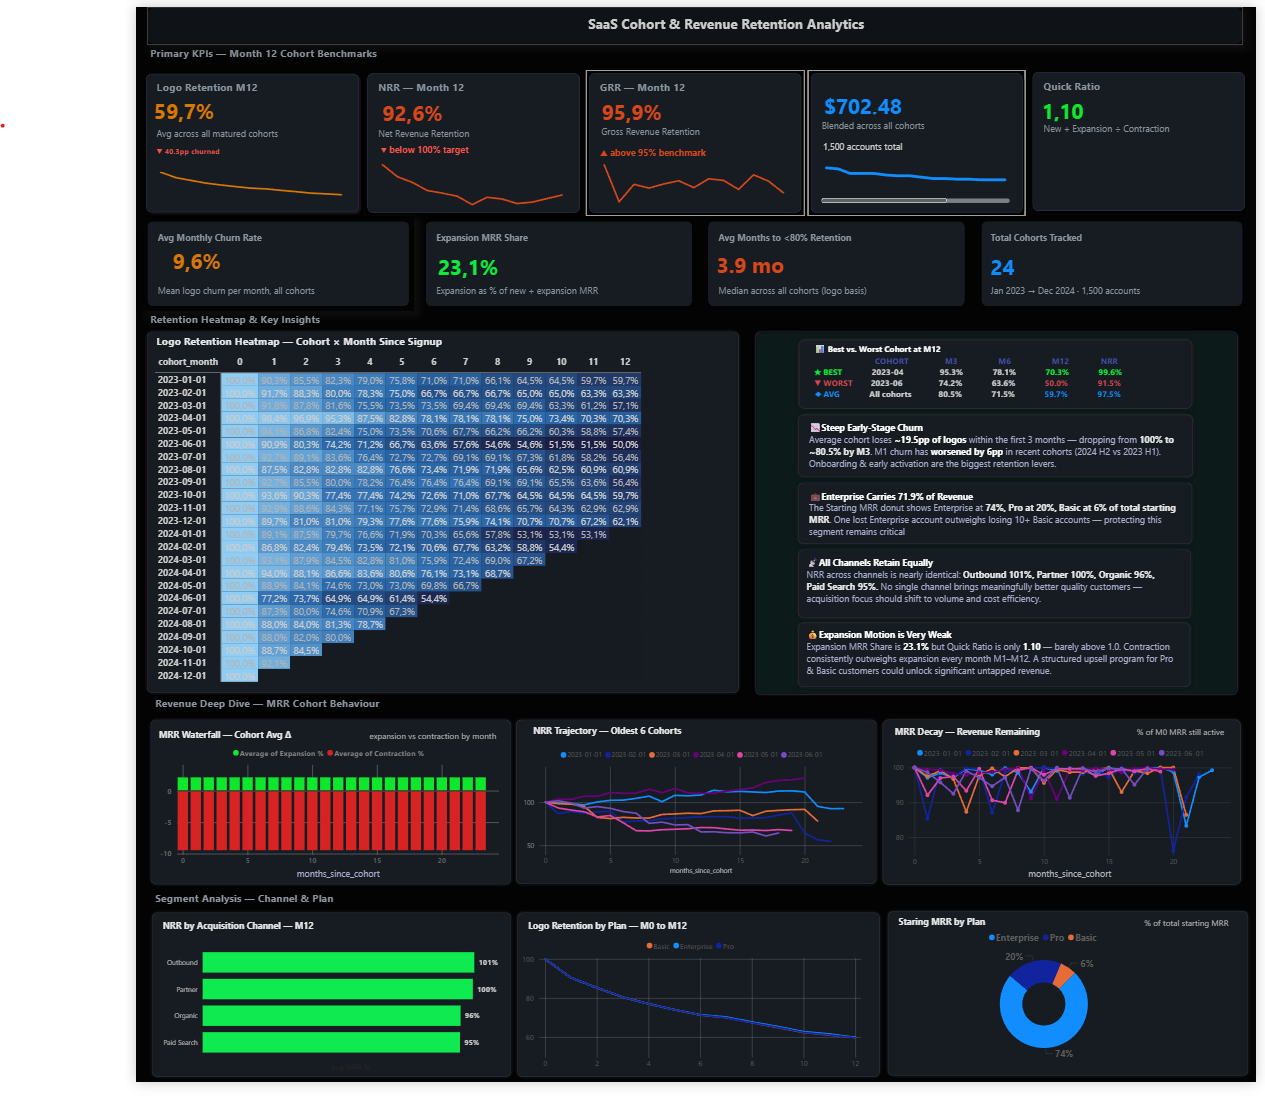

The dashboard page shown, as its layout file describes it:
{"tool":"powerbi","page":{"name":" SaaS Cohort & Revenue Retention Analytics","canvas":[2000,1920],"ordinal":2},"visuals":[{"type":"shape","box":[407.8,112,391.4,260.9],"z":0,"group":"g14"},{"type":"group","id":"g1","title":"Group 3","box":[1199.3,112,390,261.5],"z":0,"group":"g12"},{"type":"shape","box":[1199.3,112,390,261.5],"z":0,"group":"g3"},{"type":"textbox","box":[1215.6,120.1,346,39.7],"z":0,"group":"g1"},{"type":"shape","box":[1615.5,241.3,167.1,21.5],"z":0,"group":"g11"},{"type":"shape","box":[825.4,243.2,167.1,21.6],"z":0,"group":"g13"},{"type":"shape","box":[32.3,246.8,168.8,21.6],"z":0,"group":"g15"},{"type":"shape","box":[1012.6,372.9,476.6,170],"z":0,"group":"g4"},{"type":"group","id":"g2","title":"Group 7","box":[1500.6,374.2,485.1,170.8],"z":0},{"type":"shape","box":[1500.6,374.2,484.5,169.8],"z":0,"group":"g2"},{"type":"shape","box":[11.8,374.4,485.6,170],"z":0,"group":"g10"},{"type":"shape","box":[508.5,374.4,494,170],"z":0,"group":"g9"},{"type":"card","fields":{"Values":["DAX_Measures.Churn Rate Monthly Avg"]},"box":[34.1,424.8,154.6,57.3],"z":0,"group":"g7"},{"type":"card","fields":{"Values":["DAX_Measures.Avg Months to Churn"]},"box":[1033.1,432.3,133.6,52.8],"z":0,"group":"g5"},{"type":"card","fields":{"Values":["DAX_Measures.Expansion MRR Share %"]},"box":[535.3,433.8,119.8,59.4],"z":0,"group":"g8"},{"type":"card","fields":{"Values":["DAX_Measures.Total Cohorts Tracked"]},"box":[1521.9,436.2,57.7,56],"z":0,"group":"g6"},{"type":"shape","box":[10.9,572.3,1073.7,661.3],"z":0,"group":"g28"},{"type":"shape","box":[1099.1,572.3,877.5,664.9],"z":0,"group":"g27"},{"type":"shape","box":[1174.5,585.1,720.8,141.2],"z":0,"group":"g19"},{"type":"shape","box":[1175.4,721.4,721.2,127.2],"z":0,"group":"g20"},{"type":"shape","box":[1174.5,841.6,720,125.7],"z":0,"group":"g21"},{"type":"shape","box":[1174.5,960.9,717.8,138.6],"z":0,"group":"g35"},{"type":"shape","box":[1174.5,1092,716.3,131.1],"z":0,"group":"g36"},{"type":"shape","box":[670.7,1264,660,310],"z":0,"group":"g17"},{"type":"shape","box":[18.2,1264.1,660,310.5],"z":0,"group":"g33"},{"type":"shape","box":[673.7,1609.1,663.6,310],"z":0,"group":"g30"},{"type":"shape","box":[20,1609.6,658,310],"z":0,"group":"g31"},{"type":"shape","box":[1594.4,110.5,390.6,259.9],"z":1000,"group":"g11"},{"type":"shape","box":[11.8,112,393.9,261.3],"z":1000,"group":"g15"},{"type":"shape","box":[804.3,112,390.6,260.7],"z":1000,"group":"g13"},{"type":"group","id":"g3","title":"Group 4","box":[1199.3,112,390,261.5],"z":1000,"group":"g1"},{"type":"textbox","box":[429,125.3,347.3,36.6],"z":1000,"group":"g14"},{"type":"card","fields":{"Values":["DAX_Measures.Avg MRR per Account"]},"box":[1220.8,157.8,157.3,39.2],"z":1000,"group":"g3"},{"type":"textbox","box":[1220.9,232.6,226.8,36.4],"z":1000,"group":"g12"},{"type":"group","id":"g4","title":"Group 7","box":[1012.6,372.9,476.1,169.5],"z":1000},{"type":"group","id":"g5","title":"Group 6","box":[1033.1,394.4,375.3,127.1],"z":1000,"group":"g4"},{"type":"textbox","box":[1034.3,394.4,252.2,33],"z":1000,"group":"g5"},{"type":"group","id":"g6","title":"Group 6","box":[1521.9,395.6,381.1,126.9],"z":1000,"group":"g2"},{"type":"textbox","box":[1522.7,395.6,256.4,33],"z":1000,"group":"g6"},{"type":"group","id":"g7","title":"Group 6","box":[33.9,395.9,381.2,127.1],"z":1000,"group":"g10"},{"type":"textbox","box":[33.9,395.9,257,33],"z":1000,"group":"g7"},{"type":"group","id":"g8","title":"Group 6","box":[530.8,395.9,383.4,127.1],"z":1000,"group":"g9"},{"type":"textbox","box":[530.8,395.9,258.5,33],"z":1000,"group":"g8"},{"type":"textbox","box":[1206.9,597,663.3,111.5],"z":1000,"group":"g19"},{"type":"textbox","box":[1196.8,736.3,664.7,98.1],"z":1000,"group":"g20"},{"type":"textbox","box":[1198.1,856.5,667.7,96.6],"z":1000,"group":"g21"},{"type":"textbox","box":[1192.2,977.2,661.8,100.6],"z":1000,"group":"g35"},{"type":"textbox","box":[1192.2,1104.8,675.1,104],"z":1000,"group":"g36"},{"type":"columnChart","fields":{"Category":["saasdbm cohort_mrr_retention_segmented.months_since_cohort"],"Y":["Avg(saasdbm cohort_mrr_retention.Expansion %)","Avg(saasdbm cohort_mrr_retention.Contraction %)"]},"box":[38,1311.3,615.3,250.9],"z":1000,"group":"g33"},{"type":"shape","box":[1333.5,1607.8,660,310],"z":1000,"group":"g29"},{"type":"textbox","box":[1613.6,124,345.2,36.3],"z":2000,"group":"g11"},{"type":"textbox","box":[33.1,125.3,349.6,36.6],"z":2000,"group":"g15"},{"type":"textbox","box":[825.4,125.3,346.6,36.5],"z":2000,"group":"g13"},{"type":"card","fields":{"Values":["DAX_Measures.NRR M12"]},"box":[428.9,160.9,137.4,54.6],"z":2000,"group":"g14"},{"type":"textbox","box":[1218.8,195.6,256.6,31.6],"z":2000,"group":"g3"},{"type":"group","id":"g9","title":"Group 7","box":[508.5,374.4,495.2,171],"z":2000},{"type":"textbox","box":[1034.3,488.5,374.2,33],"z":2000,"group":"g5"},{"type":"textbox","box":[1522.7,489.6,380.3,33],"z":2000,"group":"g6"},{"type":"textbox","box":[33.9,490,381.2,33],"z":2000,"group":"g7"},{"type":"textbox","box":[530.8,490,383.4,33],"z":2000,"group":"g8"},{"type":"card","fields":{"Values":["DAX_Measures.Logo Ret M12"]},"box":[33.1,161.9,113.6,48.3],"z":3000,"group":"g15"},{"type":"card","fields":{"Values":["DAX_Measures.Quick Ratio"]},"box":[1600.9,162.2,110.8,47.2],"z":3000,"group":"g11"},{"type":"card","fields":{"Values":["DAX_Measures.GRR M12"]},"box":[822.6,162.6,133,51.5],"z":3000,"group":"g13"},{"type":"textbox","box":[429.1,209.6,240.9,34.9],"z":3000,"group":"g14"},{"type":"lineChart","fields":{"Category":["saasdbm account_cohorts.cohort_month"],"Y":["DAX_Measures.Avg MRR per Account Trend"]},"box":[1219.2,259.1,346,96.4],"z":3000,"group":"g3"},{"type":"group","id":"g10","title":"Group 7","box":[11.8,374.4,485.6,170],"z":3000},{"type":"group","id":"g11","title":"Group 1","box":[1594.4,110.5,390.6,259.9],"z":4000},{"type":"textbox","box":[1614.1,200.7,307,36.4],"z":4000,"group":"g11"},{"type":"textbox","box":[826.6,207.4,242.2,46.5],"z":4000,"group":"g13"},{"type":"textbox","box":[31.6,209.4,308.7,33.3],"z":4000,"group":"g15"},{"type":"textbox","box":[432.4,237.9,281,36.6],"z":4000,"group":"g14"},{"type":"group","id":"g12","title":"Group 5","box":[1199.3,112,390,261.5],"z":5000},{"type":"textbox","box":[824.9,242.3,240.5,34.9],"z":5000,"group":"g13"},{"type":"textbox","box":[32.3,243.5,146.7,28.3],"z":5000,"group":"g15"},{"type":"lineChart","fields":{"Category":["saasdbm cohort_mrr_retention.months_since_cohort"],"Y":["DAX_Measures.NRR Trend"]},"box":[425.4,268.2,350.9,93.1],"z":5000,"group":"g14"},{"type":"group","id":"g13","title":"Group 1","box":[804.3,112,390.6,260.9],"z":6000},{"type":"lineChart","fields":{"Category":["saasdbm cohort_mrr_retention.months_since_cohort"],"Y":["DAX_Measures.GRR Trend"]},"box":[821.9,268.1,350.1,93],"z":6000,"group":"g13"},{"type":"lineChart","fields":{"Category":["saasdbm cohort_logo_retention.months_since_cohort"],"Y":["Avg(saasdbm cohort_logo_retention.logo_retention_rate_pct)"]},"box":[29.4,281.5,353,79.9],"z":6000,"group":"g15"},{"type":"group","id":"g14","title":"Group 2","box":[407.8,112,391.4,260.9],"z":7000},{"type":"group","id":"g15","title":"Group 1","box":[11.8,112,393,259.4],"z":8000},{"type":"textbox","box":[19.2,66.3,454,45.7],"z":9000},{"type":"textbox","box":[20,539,452.4,36.3],"z":11000},{"type":"textbox","box":[29.1,1226.3,452.4,38.2],"z":12000},{"type":"textbox","box":[29.1,1573.3,452.4,36.3],"z":13000},{"type":"group","id":"g16","title":"Group 14","box":[18.2,1264.1,661.3,308.8],"z":14000},{"type":"group","id":"g17","title":"Group 16","box":[670.7,1264,660,310],"z":15000},{"type":"textbox","box":[705.2,1275.5,286,32.5],"z":16000},{"type":"group","id":"g18","title":"Group 17","box":[1325.2,1264,655.8,310.7],"z":17000},{"type":"group","id":"g19","title":"Group 8","box":[1174.5,585.1,721.2,142.9],"z":18000,"group":"g27"},{"type":"lineChart","fields":{"Category":["saasdbm cohort_mrr_retention.months_since_cohort"],"Series":["saasdbm cohort_mrr_retention.cohort_month"],"Y":["DAX_Measures.NRR All Months"]},"box":[685.7,1316.1,615.8,238.8],"z":18000},{"type":"group","id":"g20","title":"Group 9","box":[1175.4,721.4,721.2,127.2],"z":19000,"group":"g27"},{"type":"textbox","box":[1782.4,1280.9,175.8,30],"z":19000},{"type":"group","id":"g21","title":"Group 10","box":[1174.5,841.6,719.4,126.4],"z":20000,"group":"g27"},{"type":"group","id":"g22","title":"Group 19","box":[20,1609.6,658,310],"z":20000},{"type":"group","id":"g23","title":"Group 11","box":[1174.5,960.9,717.8,138.6],"z":21000,"group":"g27"},{"type":"group","id":"g24","title":"Group 19","box":[673.7,1609.1,663.1,310.7],"z":21000},{"type":"group","id":"g25","title":"Group 12","box":[1174.5,1092,716.3,131.1],"z":22000,"group":"g27"},{"type":"lineChart","fields":{"Category":["saasdbm cohort_mrr_retention_segmented.months_since_cohort"],"Series":["saasdbm cohort_mrr_retention_segmented.initial_plan"],"Y":["Avg(saasdbm cohort_mrr_retention_segmented.logo_retention_rate)"]},"box":[683.1,1656.8,615.9,250.7],"z":22000},{"type":"group","id":"g26","title":"Group 20","box":[1333.5,1607.8,659.5,310.7],"z":23000},{"type":"group","id":"g27","title":"Group 21","box":[1099.1,572.3,877.5,664.9],"z":24000},{"type":"group","id":"g28","title":"Group 24","box":[10.9,572.3,1073.7,661.3],"z":25000},{"type":"textbox","box":[30.9,577.7,681.3,34.5],"z":26000},{"type":"pivotTable","fields":{"Rows":["saasdbm cohort_logo_retention.cohort_month"],"Columns":["saasdbm cohort_logo_retention.months_since_cohort"],"Values":["Avg(saasdbm cohort_logo_retention.logo_retention_rate_pct)"]},"box":[29.1,617.7,971.9,597.7],"z":27000},{"type":"shape","box":[1325.2,1264,655.8,310.7],"z":27500,"group":"g18"},{"type":"shape","box":[20,0,1956.6,67.2],"z":28000},{"type":"textbox","box":[761.3,9.5,632.9,50.5],"z":29000},{"type":"lineChart","fields":{"Series":["saasdbm cohort_mrr_retention.cohort_month"],"Category":["saasdbm cohort_mrr_retention.months_since_cohort"],"Y":["DAX_Measures.GRR All Months"]},"box":[1346.2,1312.1,614.6,250.6],"z":32000,"group":"g18"},{"type":"clusteredBarChart","fields":{"Category":["saasdbm cohort_mrr_retention_segmented.acquisition_channel"],"Y":["DAX_Measures.Avg NRR %"]},"box":[38.1,1656.8,614,250.7],"z":32000,"group":"g31"},{"type":"group","id":"g29","title":"Group 18","box":[1333.5,1607.8,660,310],"z":32001,"group":"g34"},{"type":"group","id":"g30","title":"Group 18","box":[673.7,1609.1,663.6,310],"z":32001,"group":"g24"},{"type":"group","id":"g31","title":"Group 18","box":[20,1609.6,658,310],"z":32001,"group":"g22"},{"type":"group","id":"g32","title":"Group 15","box":[18.2,1264.1,660,310.5],"z":32002,"group":"g16"},{"type":"textbox","box":[36.6,1281.8,279,32],"z":32500,"group":"g33"},{"type":"textbox","box":[1349.1,1276.7,285.9,32.4],"z":32501,"group":"g18"},{"type":"textbox","box":[1355,1618.2,203.5,35],"z":32501,"group":"g34"},{"type":"textbox","box":[695.6,1625.1,306.9,45.4],"z":32501,"group":"g24"},{"type":"textbox","box":[41.8,1625.6,305.2,45.4],"z":32501,"group":"g22"},{"type":"group","id":"g33","title":"Group 13","box":[18.2,1264.1,660,310.5],"z":32502,"group":"g32"},{"type":"textbox","box":[412.2,1286.3,241.6,29.6],"z":33000,"group":"g33"},{"type":"group","id":"g34","title":"Group 19","box":[1333.5,1607.8,660,310],"z":33000,"group":"g26"},{"type":"group","id":"g35","title":"Group 22","box":[1174.5,960.9,717.8,138.6],"z":33002,"group":"g23"},{"type":"group","id":"g36","title":"Group 23","box":[1174.5,1092,716.3,131.1],"z":33002,"group":"g25"},{"type":"donutChart","fields":{"Category":["saasdbm cohort_mrr_retention_segmented.initial_plan"],"Y":["Sum(saasdbm cohort_mrr_retention_segmented.start_mrr)"]},"box":[1438.9,1646,377.9,259.8],"z":34000,"group":"g26"},{"type":"textbox","box":[1794.9,1622.3,170.8,30.9],"z":34500,"group":"g26"}]}

Visuals, with their boxes on the page's 2000x1920 design canvas (x1, y1, x2, y2). These are canvas units, not pixel positions in the 1265x1096 screenshot, which may show the page scaled, cropped or inside an application window:
shape: 408:112:799:373
"Group 3" group: 1199:112:1589:374
shape: 1199:112:1589:374
textbox: 1216:120:1562:160
shape: 1616:241:1783:263
shape: 825:243:992:265
shape: 32:247:201:268
shape: 1013:373:1489:543
"Group 7" group: 1501:374:1986:545
shape: 1501:374:1985:544
shape: 12:374:497:544
shape: 508:374:1002:544
card - DAX_Measures.Churn Rate Monthly Avg: 34:425:189:482
card - DAX_Measures.Avg Months to Churn: 1033:432:1167:485
card - DAX_Measures.Expansion MRR Share %: 535:434:655:493
card - DAX_Measures.Total Cohorts Tracked: 1522:436:1580:492
shape: 11:572:1085:1234
shape: 1099:572:1977:1237
shape: 1174:585:1895:726
shape: 1175:721:1897:849
shape: 1174:842:1894:967
shape: 1174:961:1892:1100
shape: 1174:1092:1891:1223
shape: 671:1264:1331:1574
shape: 18:1264:678:1575
shape: 674:1609:1337:1919
shape: 20:1610:678:1920
shape: 1594:110:1985:370
shape: 12:112:406:373
shape: 804:112:1195:373
"Group 4" group: 1199:112:1589:374
textbox: 429:125:776:162
card - DAX_Measures.Avg MRR per Account: 1221:158:1378:197
textbox: 1221:233:1448:269
"Group 7" group: 1013:373:1489:542
"Group 6" group: 1033:394:1408:522
textbox: 1034:394:1286:427
"Group 6" group: 1522:396:1903:522
textbox: 1523:396:1779:429
"Group 6" group: 34:396:415:523
textbox: 34:396:291:429
"Group 6" group: 531:396:914:523
textbox: 531:396:789:429
textbox: 1207:597:1870:708
textbox: 1197:736:1862:834
textbox: 1198:856:1866:953
textbox: 1192:977:1854:1078
textbox: 1192:1105:1867:1209
columnChart - saasdbm cohort_mrr_retention_segmented.months_since_cohort x Avg(saasdbm cohort_mrr_retention.Expansion %): 38:1311:653:1562
shape: 1334:1608:1994:1918
textbox: 1614:124:1959:160
textbox: 33:125:383:162
textbox: 825:125:1172:162
card - DAX_Measures.NRR M12: 429:161:566:216
textbox: 1219:196:1475:227
"Group 7" group: 508:374:1004:545
textbox: 1034:488:1408:522
textbox: 1523:490:1903:523
textbox: 34:490:415:523
textbox: 531:490:914:523
card - DAX_Measures.Logo Ret M12: 33:162:147:210
card - DAX_Measures.Quick Ratio: 1601:162:1712:209
card - DAX_Measures.GRR M12: 823:163:956:214
textbox: 429:210:670:244
lineChart - saasdbm account_cohorts.cohort_month x DAX_Measures.Avg MRR per Account Trend: 1219:259:1565:356
"Group 7" group: 12:374:497:544
"Group 1" group: 1594:110:1985:370
textbox: 1614:201:1921:237
textbox: 827:207:1069:254
textbox: 32:209:340:243
textbox: 432:238:713:274
"Group 5" group: 1199:112:1589:374
textbox: 825:242:1065:277
textbox: 32:244:179:272
lineChart - saasdbm cohort_mrr_retention.months_since_cohort x DAX_Measures.NRR Trend: 425:268:776:361
"Group 1" group: 804:112:1195:373
lineChart - saasdbm cohort_mrr_retention.months_since_cohort x DAX_Measures.GRR Trend: 822:268:1172:361
lineChart - saasdbm cohort_logo_retention.months_since_cohort x Avg(saasdbm cohort_logo_retention.logo_retention_rate_pct): 29:282:382:361
"Group 2" group: 408:112:799:373
"Group 1" group: 12:112:405:371
textbox: 19:66:473:112
textbox: 20:539:472:575
textbox: 29:1226:482:1264
textbox: 29:1573:482:1610
"Group 14" group: 18:1264:680:1573
"Group 16" group: 671:1264:1331:1574
textbox: 705:1276:991:1308
"Group 17" group: 1325:1264:1981:1575
"Group 8" group: 1174:585:1896:728
lineChart - saasdbm cohort_mrr_retention.months_since_cohort x saasdbm cohort_mrr_retention.cohort_month: 686:1316:1302:1555
"Group 9" group: 1175:721:1897:849
textbox: 1782:1281:1958:1311
"Group 10" group: 1174:842:1894:968
"Group 19" group: 20:1610:678:1920
"Group 11" group: 1174:961:1892:1100
"Group 19" group: 674:1609:1337:1920
"Group 12" group: 1174:1092:1891:1223
lineChart - saasdbm cohort_mrr_retention_segmented.months_since_cohort x saasdbm cohort_mrr_retention_segmented.initial_plan: 683:1657:1299:1908
"Group 20" group: 1334:1608:1993:1918
"Group 21" group: 1099:572:1977:1237
"Group 24" group: 11:572:1085:1234
textbox: 31:578:712:612
pivotTable - saasdbm cohort_logo_retention.cohort_month x saasdbm cohort_logo_retention.months_since_cohort: 29:618:1001:1215
shape: 1325:1264:1981:1575
shape: 20:0:1977:67
textbox: 761:10:1394:60
lineChart - saasdbm cohort_mrr_retention.cohort_month x saasdbm cohort_mrr_retention.months_since_cohort: 1346:1312:1961:1563
clusteredBarChart - saasdbm cohort_mrr_retention_segmented.acquisition_channel x DAX_Measures.Avg NRR %: 38:1657:652:1908
"Group 18" group: 1334:1608:1994:1918
"Group 18" group: 674:1609:1337:1919
"Group 18" group: 20:1610:678:1920
"Group 15" group: 18:1264:678:1575
textbox: 37:1282:316:1314
textbox: 1349:1277:1635:1309
textbox: 1355:1618:1558:1653
textbox: 696:1625:1002:1670
textbox: 42:1626:347:1671
"Group 13" group: 18:1264:678:1575
textbox: 412:1286:654:1316
"Group 19" group: 1334:1608:1994:1918
"Group 22" group: 1174:961:1892:1100
"Group 23" group: 1174:1092:1891:1223
donutChart - saasdbm cohort_mrr_retention_segmented.initial_plan x Sum(saasdbm cohort_mrr_retention_segmented.start_mrr): 1439:1646:1817:1906
textbox: 1795:1622:1966:1653
